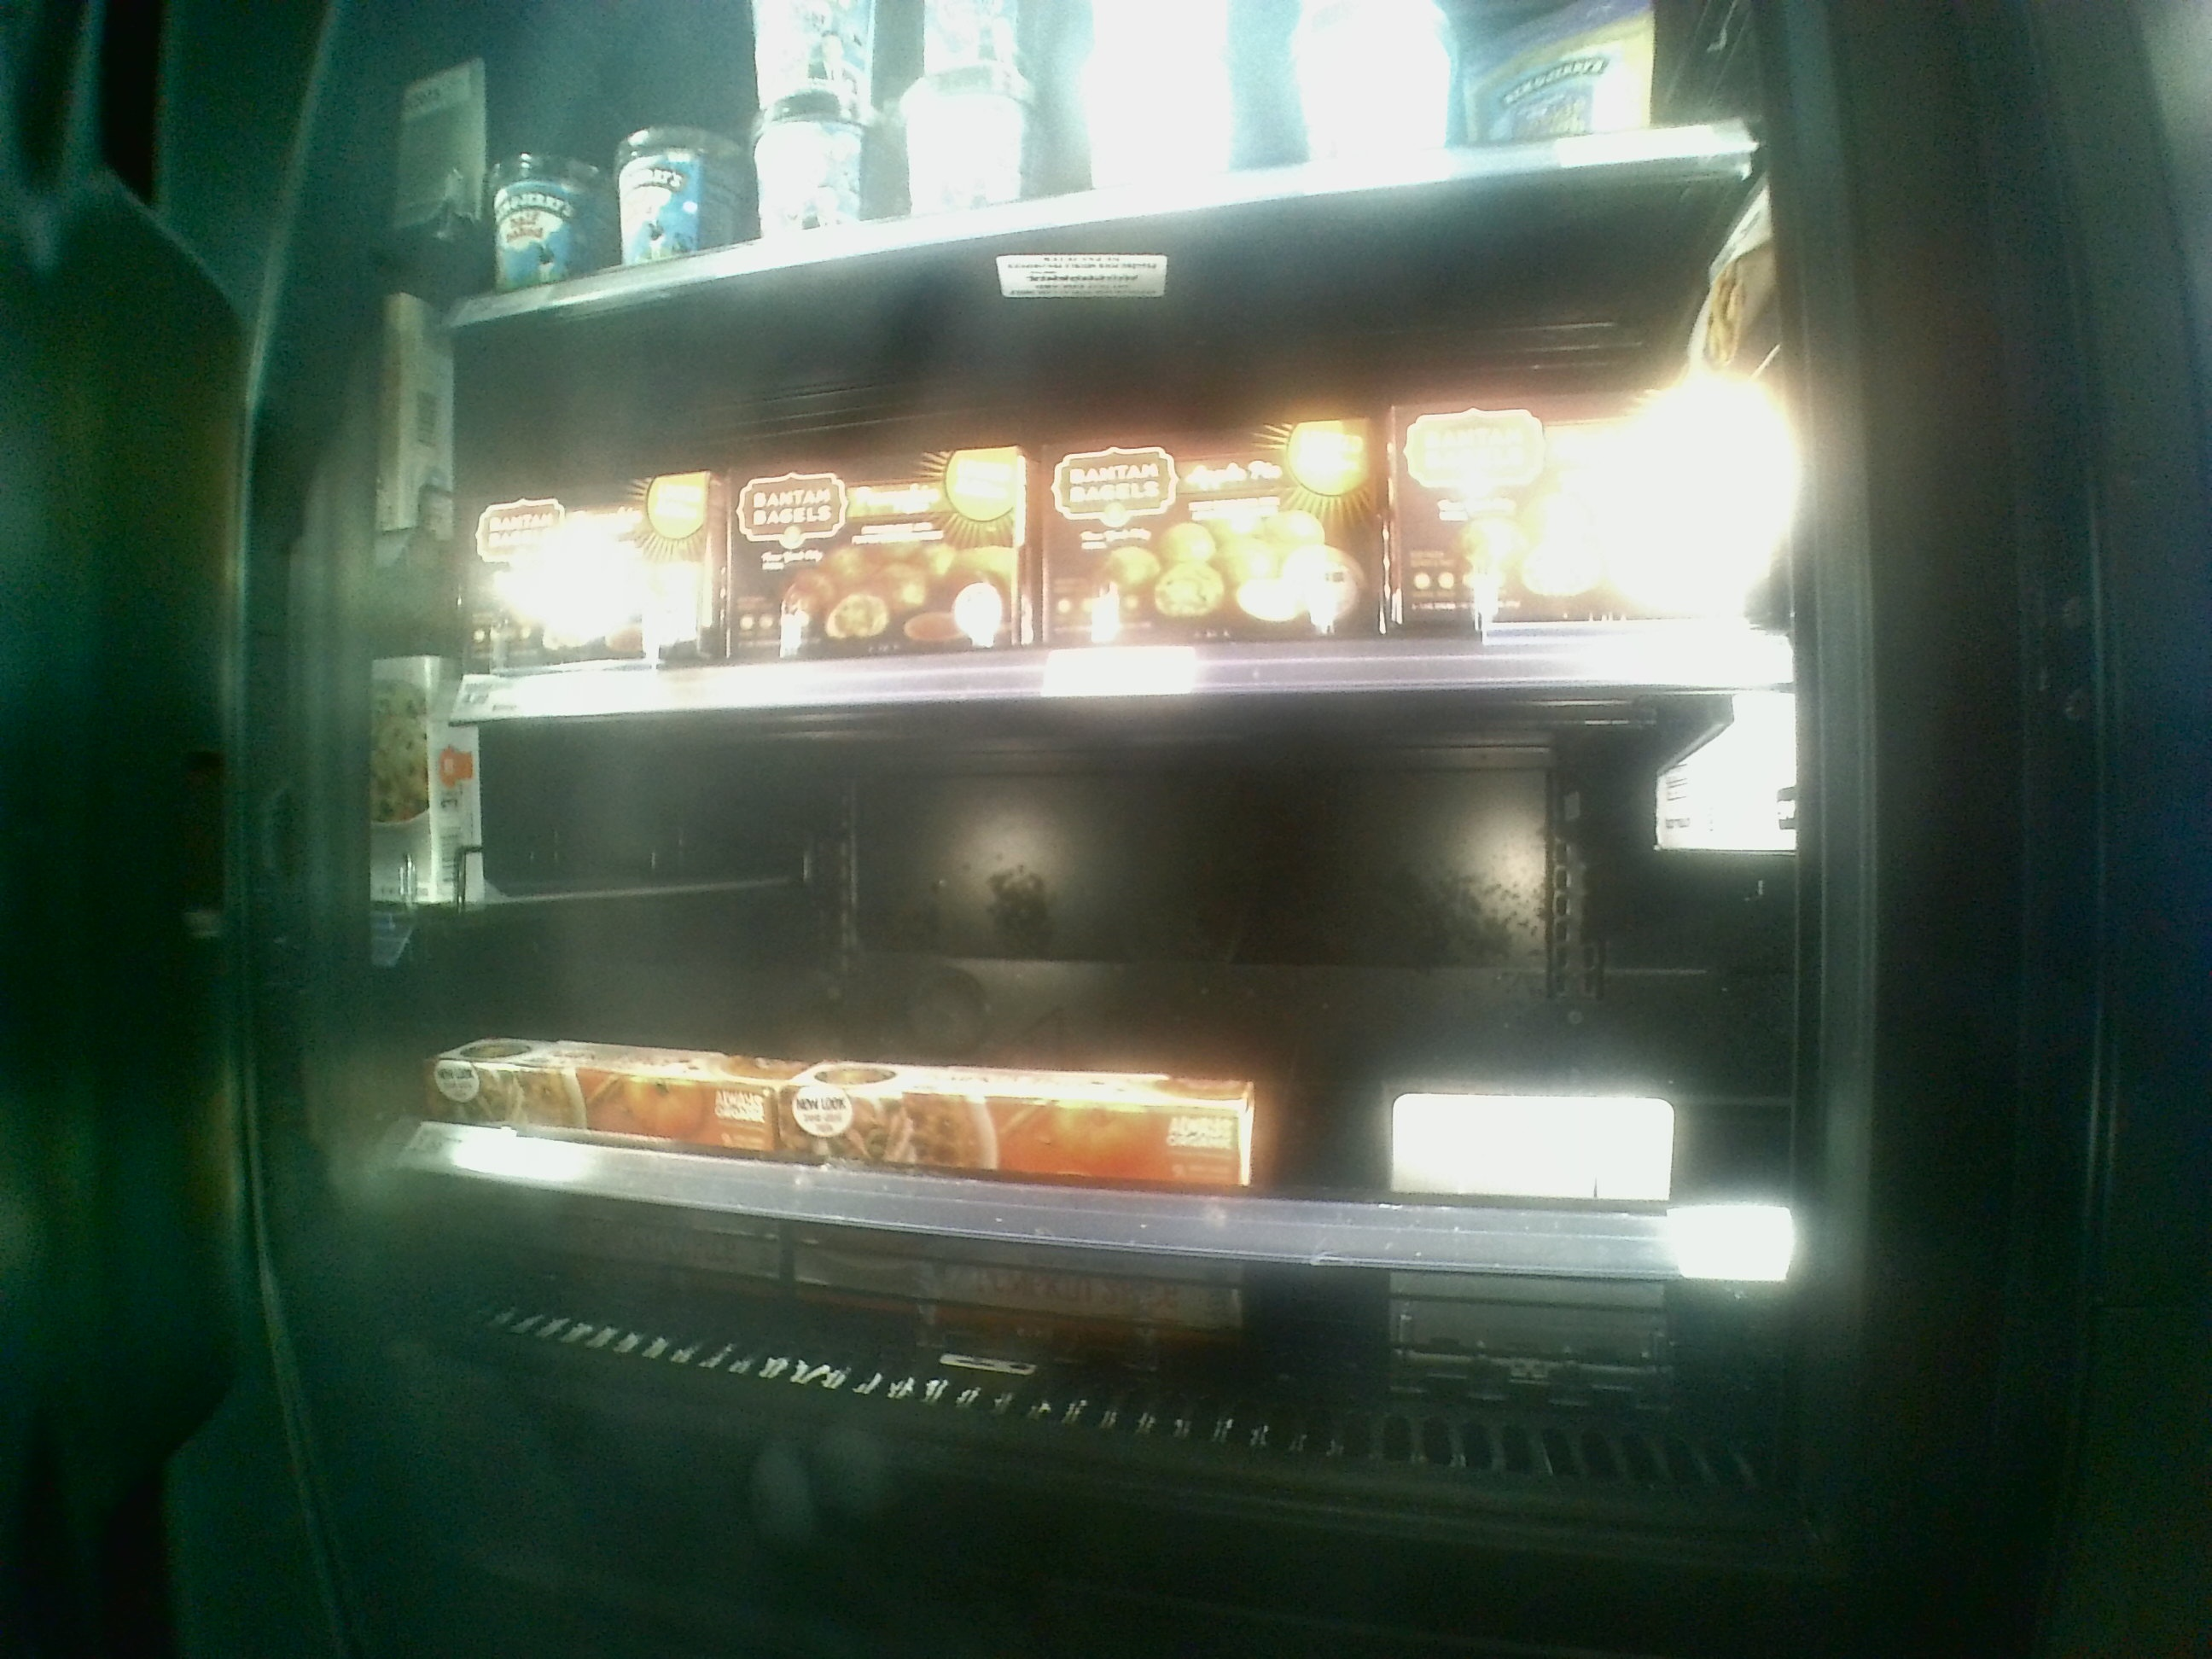shelf: (435, 678, 1780, 1262), (415, 300, 1770, 664)
